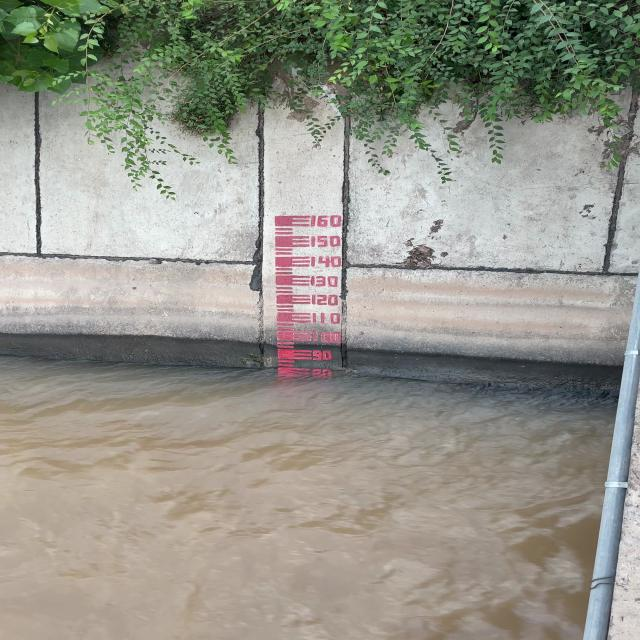ruler: (265, 210, 354, 372)
value: (308, 213, 344, 230), (307, 233, 345, 249), (309, 330, 345, 345), (307, 311, 345, 325), (308, 255, 344, 269), (308, 293, 343, 307), (308, 274, 342, 288), (310, 348, 336, 362)
